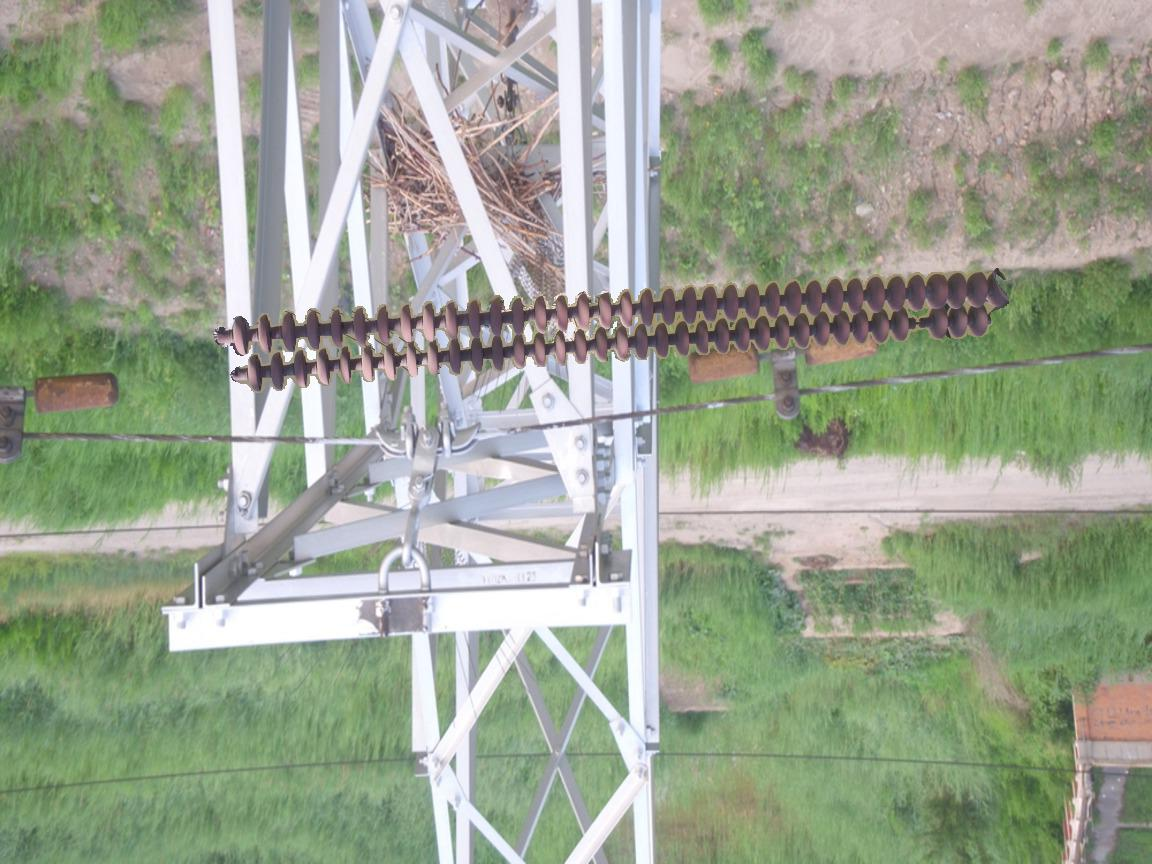insulator: (216, 263, 1010, 395)
insulator_stringdrop: (889, 305, 950, 345)
